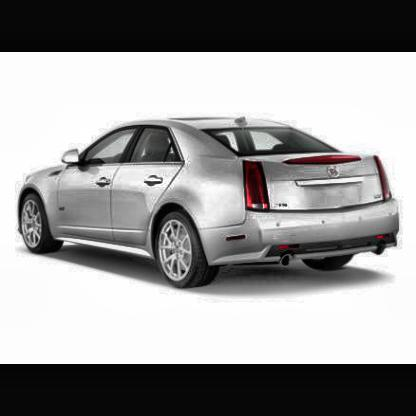Cadillac CTS-V Sedan 2012: (11, 113, 403, 293)
